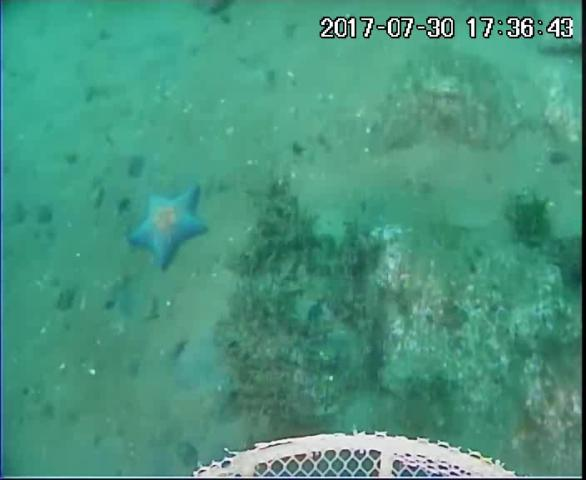starfish: (127, 186, 214, 272)
